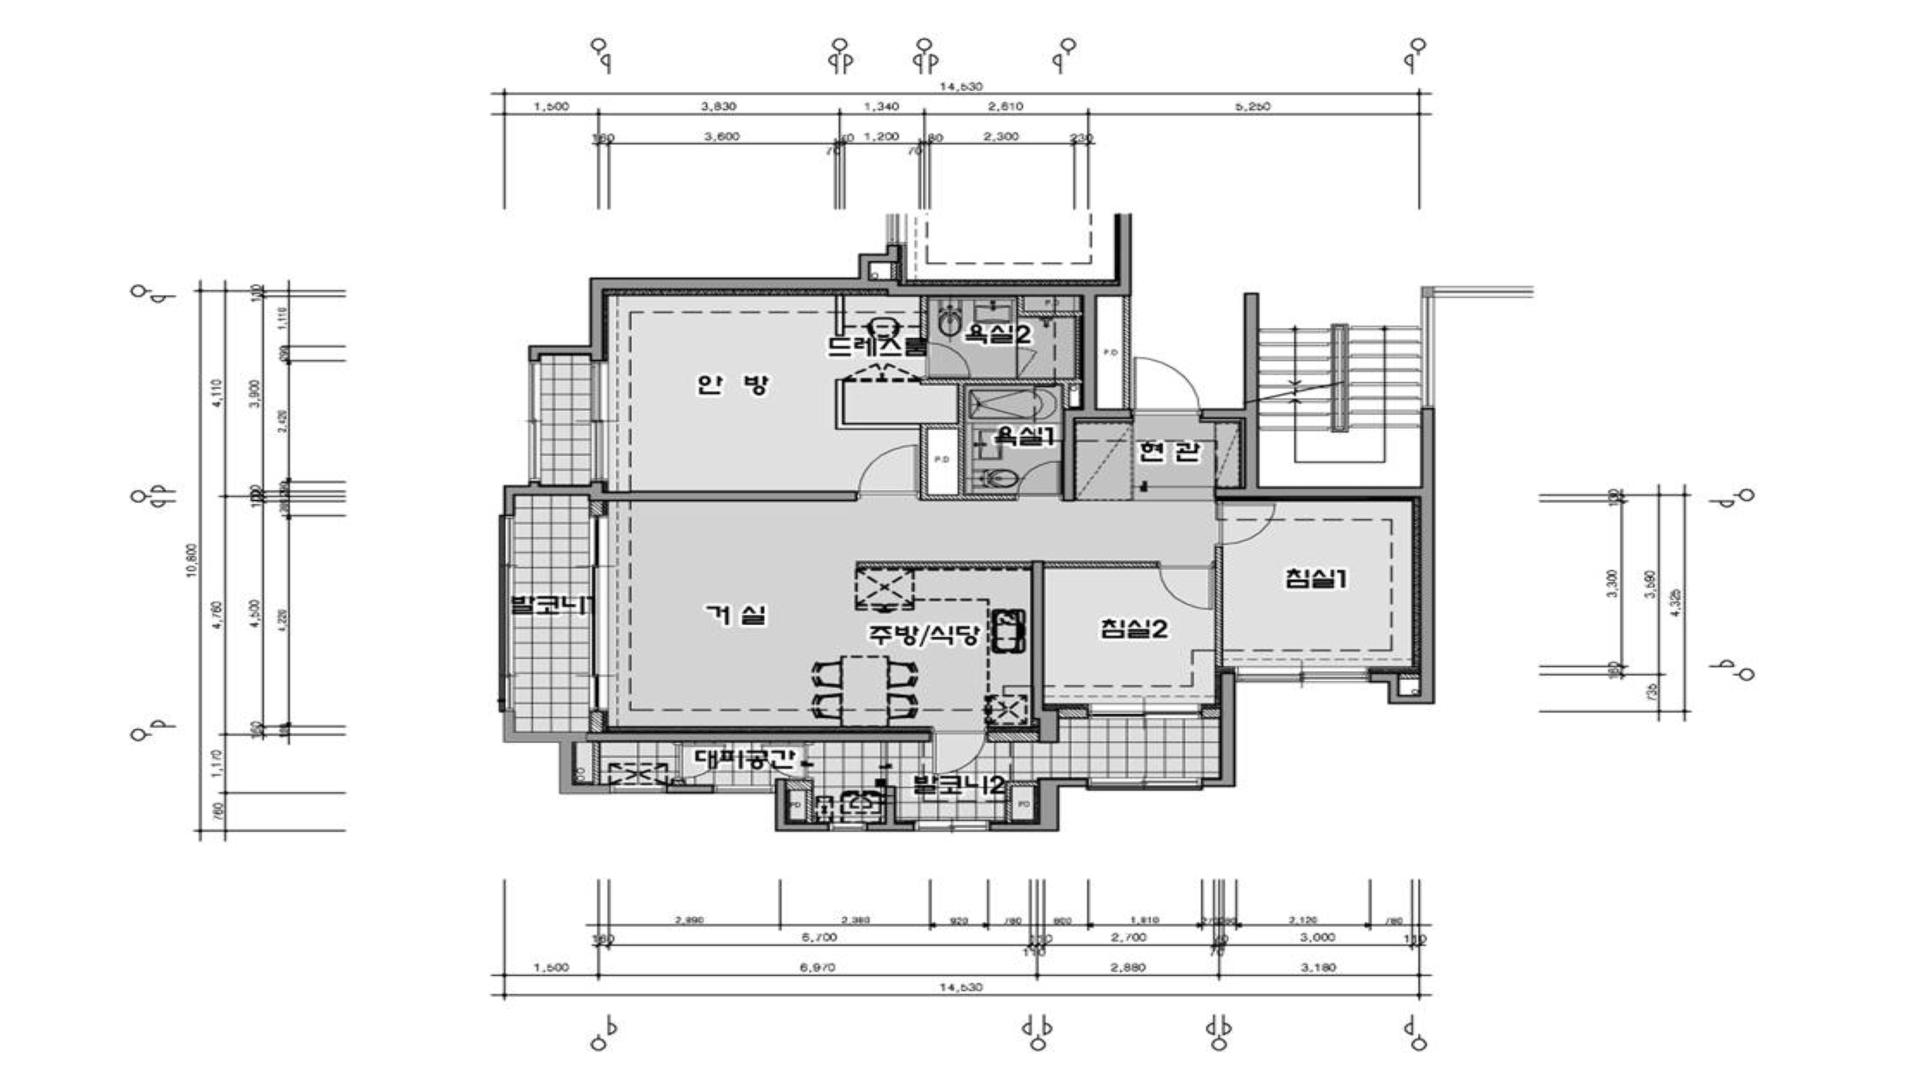door: (1131, 357, 1201, 415), (857, 443, 920, 500), (1215, 501, 1278, 547), (1156, 560, 1215, 609), (931, 727, 988, 774), (673, 742, 728, 781), (761, 742, 814, 779), (1015, 462, 1063, 501), (920, 342, 971, 378), (1017, 348, 1038, 378)
wall: (529, 214, 1133, 501), (1201, 293, 1435, 704), (504, 712, 931, 793), (504, 481, 857, 516), (989, 778, 1088, 832), (1031, 560, 1059, 742), (1201, 673, 1236, 787), (775, 779, 829, 832), (866, 786, 914, 832), (1005, 782, 1040, 824), (1017, 297, 1081, 318), (786, 779, 814, 823), (856, 562, 1031, 568), (1215, 547, 1224, 666), (920, 378, 1083, 385), (1044, 560, 1156, 568), (836, 423, 964, 430), (1124, 297, 1130, 409), (920, 495, 1015, 501), (988, 732, 1039, 742), (920, 430, 928, 495), (919, 297, 928, 342), (835, 380, 844, 423), (666, 785, 715, 793), (835, 295, 844, 336), (959, 430, 964, 495), (592, 742, 600, 785), (589, 711, 604, 732), (1059, 709, 1088, 719), (957, 385, 964, 423), (589, 501, 604, 516), (1201, 709, 1220, 719), (1063, 384, 1069, 407), (1422, 286, 1433, 298), (1399, 674, 1419, 679), (671, 781, 684, 785)
window: (589, 516, 609, 711), (498, 516, 516, 712), (1234, 666, 1370, 683), (591, 361, 609, 481), (1088, 703, 1201, 719), (1088, 778, 1201, 791), (529, 361, 541, 481), (1422, 297, 1433, 409), (914, 820, 989, 832), (715, 785, 775, 793), (611, 785, 666, 793), (829, 823, 866, 832)
